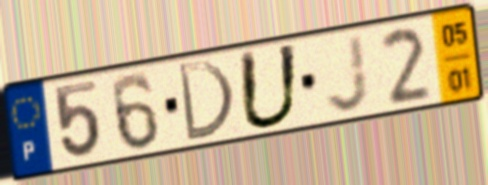2: (377, 24, 435, 108)
5: (49, 79, 104, 162)
6: (108, 70, 162, 155)
D: (174, 58, 238, 144)
J: (323, 31, 373, 115)
U: (236, 41, 303, 133)
